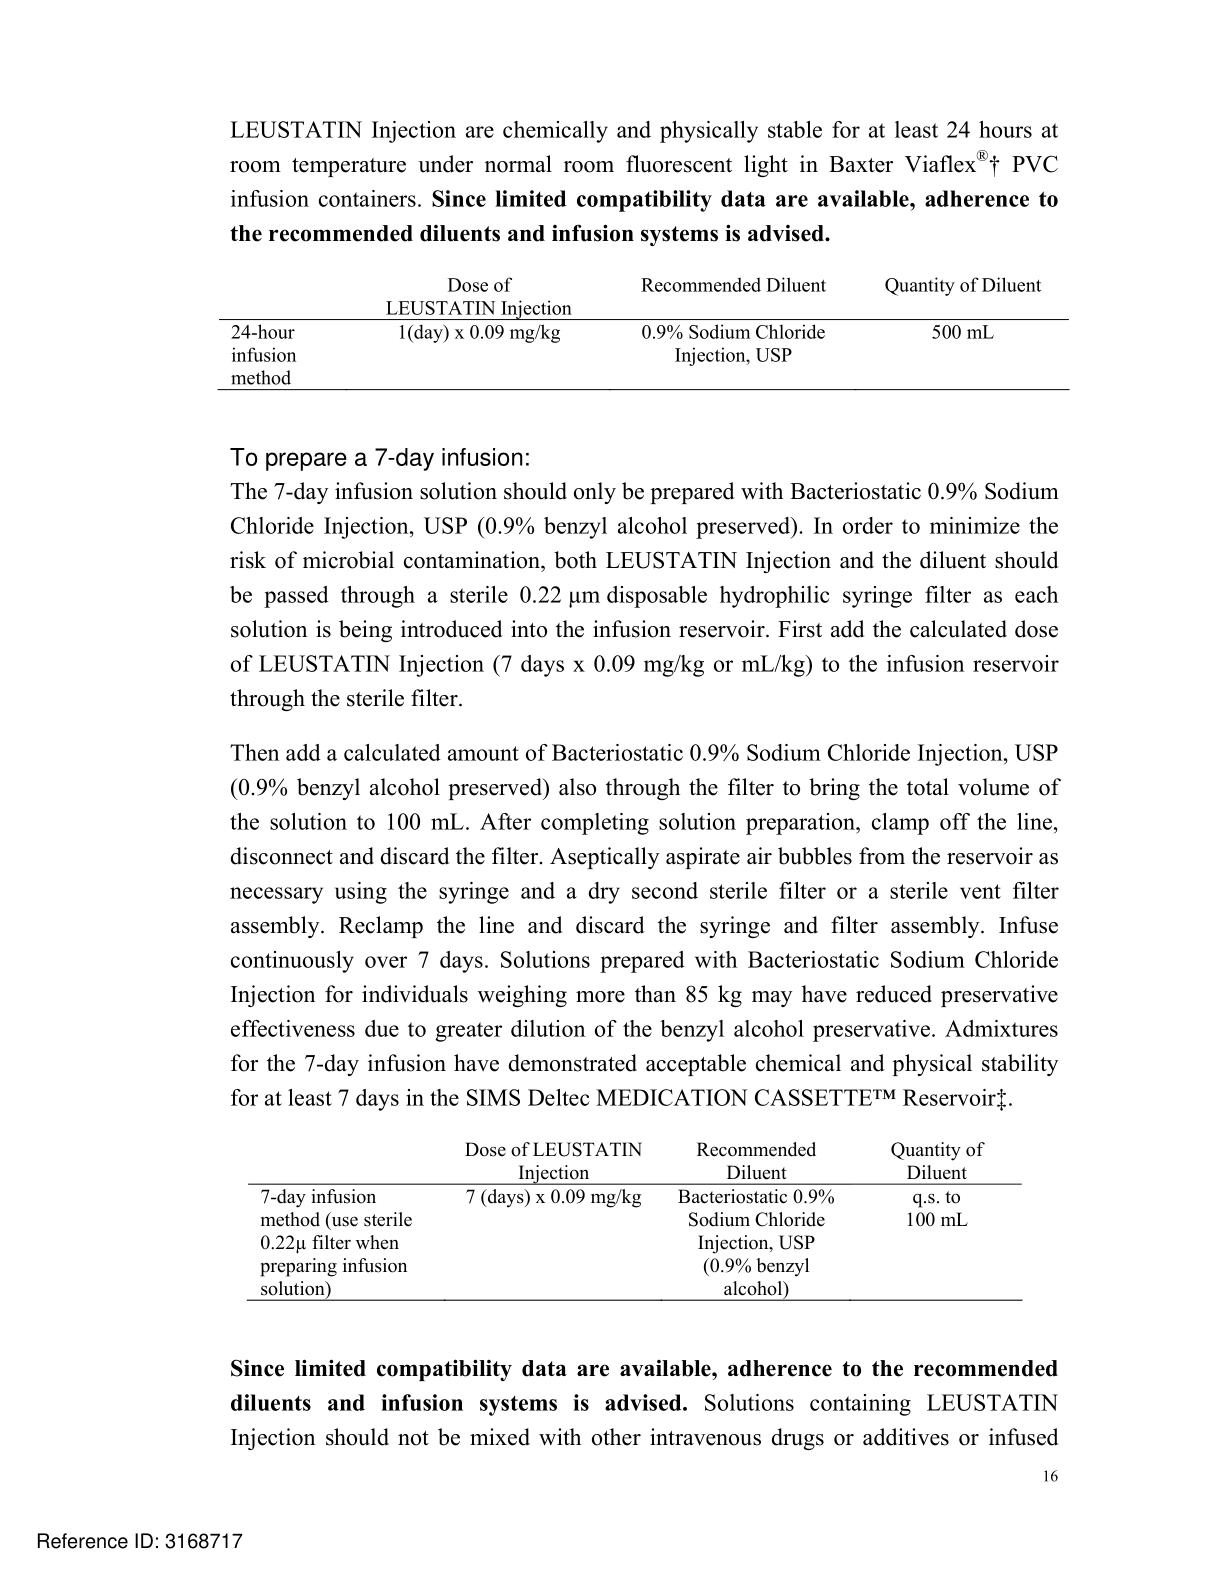partial_lined: (246, 1137, 1023, 1304), (215, 267, 1071, 391)
